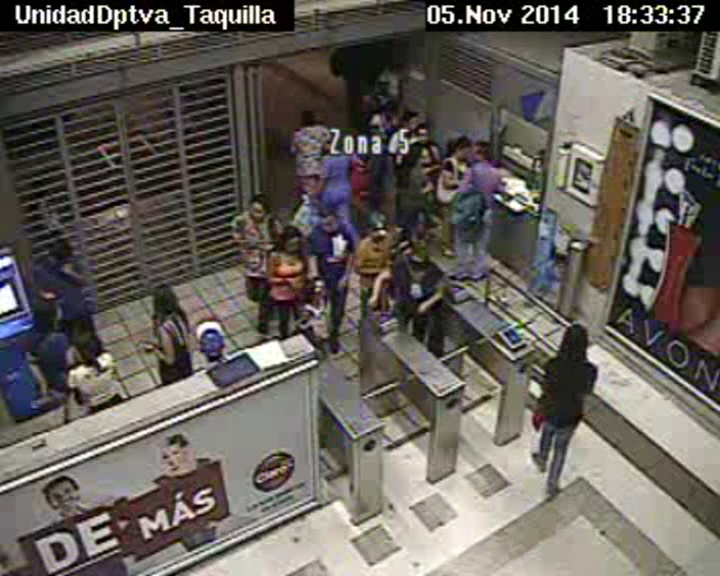person: (69, 328, 101, 359), (562, 323, 591, 357), (362, 209, 391, 242), (33, 299, 63, 330), (152, 284, 181, 315), (278, 223, 304, 256), (245, 192, 270, 222), (315, 208, 340, 234), (304, 275, 327, 303), (407, 239, 429, 265), (450, 135, 472, 161), (49, 235, 72, 257), (473, 139, 494, 163), (325, 135, 345, 156), (299, 104, 318, 126), (401, 146, 419, 167), (414, 124, 432, 143), (403, 112, 417, 130), (377, 78, 392, 94), (370, 97, 384, 111), (384, 101, 398, 115)
